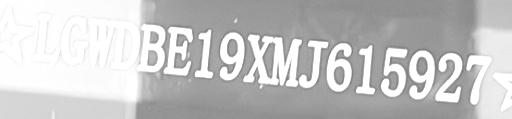letter: (269, 32, 301, 89), (241, 31, 273, 86), (87, 15, 117, 72), (110, 18, 140, 75), (29, 10, 61, 63), (134, 22, 166, 75), (433, 50, 465, 103), (298, 36, 328, 91), (324, 42, 356, 93), (378, 46, 410, 97), (163, 25, 193, 78), (216, 30, 246, 83), (407, 48, 437, 101), (464, 53, 492, 106), (60, 14, 88, 65), (356, 42, 378, 97), (193, 28, 215, 81)
